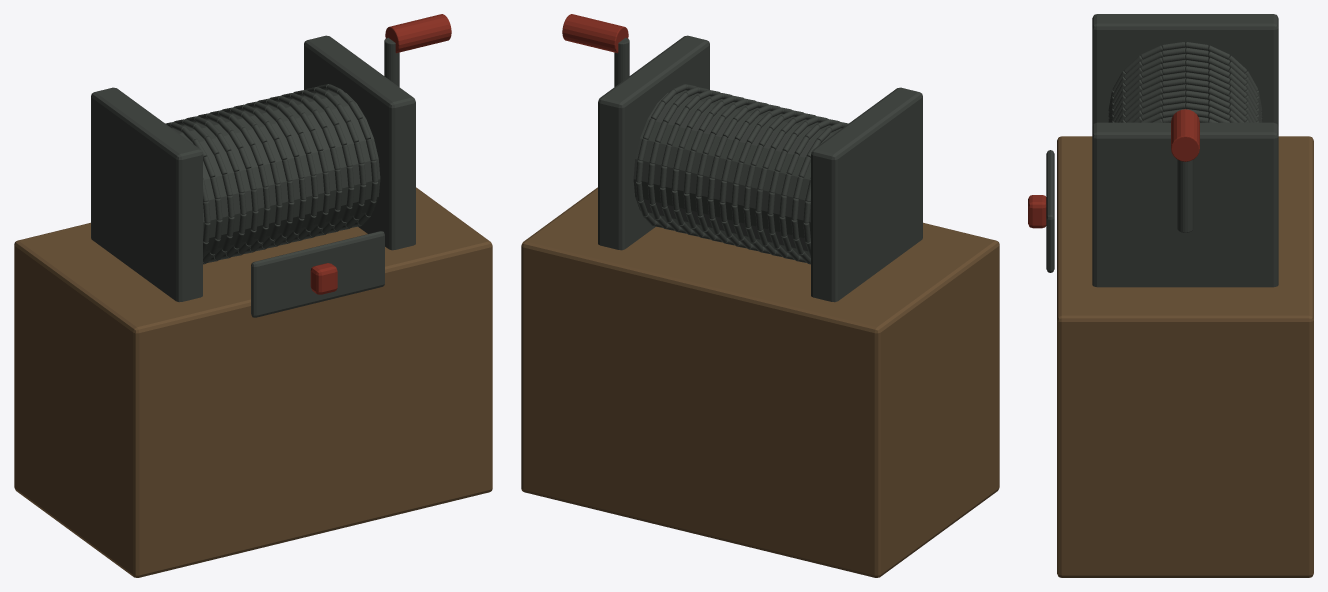
File: BridgeWinch.fbx
3 renders of one model, left to right at view 1: azimuth 30°, elevation 25°; view 2: azimuth 150°, elevation 25°; view 3: azimuth 270°, elevation 25°, orthographic. The views are drawn at different scales.
Visible parts, largest first — view 1: BridgeWinch; view 2: BridgeWinch; view 3: BridgeWinch.
Part boxes in pixels (box(x1,y1,x2,y2)): BridgeWinch: box(14, 14, 492, 577); BridgeWinch: box(521, 14, 999, 577); BridgeWinch: box(1028, 14, 1313, 577).
Size of the model in its own units: 140 by 89 by 154.
